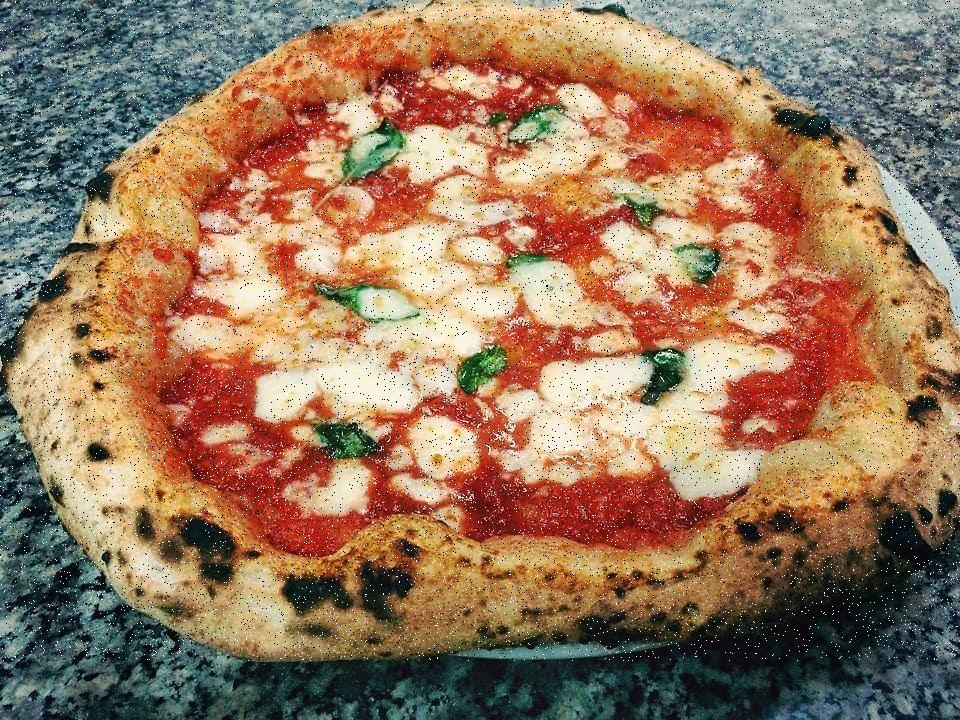Basil: (313, 115, 406, 212), (310, 280, 425, 326), (305, 416, 389, 463), (634, 343, 690, 410), (458, 341, 514, 402), (509, 104, 573, 148), (671, 241, 726, 292), (621, 194, 667, 233), (502, 248, 551, 272), (486, 106, 512, 132)
Pizza: (0, 0, 960, 661)
